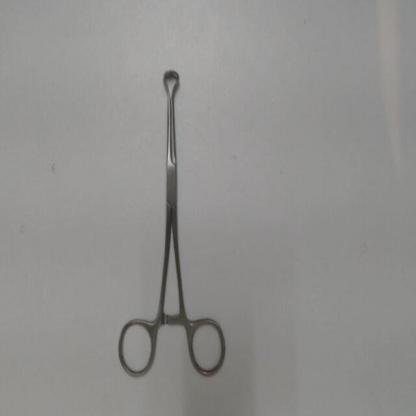Babcock Tissue Forceps: (114, 66, 229, 383)
